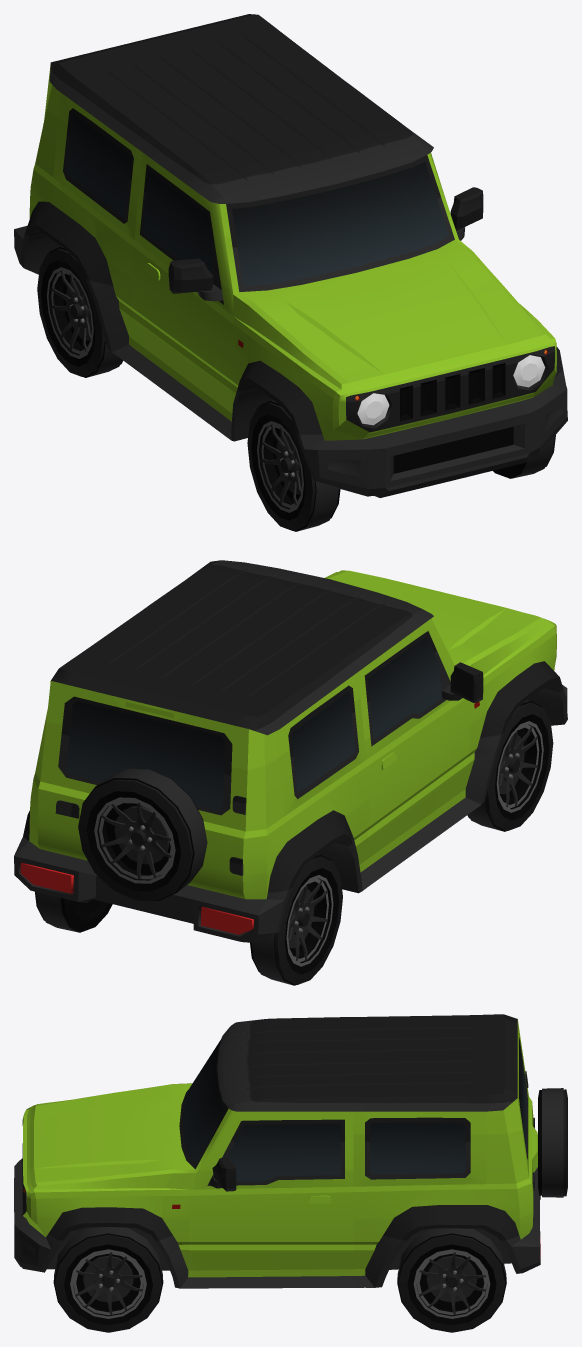
The model's file is Simple_Japanese_Car_V17.fbx.
3 views of the same model, one above another, from view 1: azimuth 30°, elevation 25°; view 2: azimuth 150°, elevation 25°; view 3: azimuth 270°, elevation 25° (orthographic). The views are drawn at different scales.
Visible parts, largest first — view 1: Body.004, FR.004, RR.004, FL.004; view 2: Body.004, RR.004, FR.004, RL.004; view 3: Body.004, FL.004, RL.004.
Boxes of the visible parts, x1,y1,x2,y2 form: Body.004: [14, 14, 567, 497]; FR.004: [247, 400, 340, 531]; RR.004: [37, 246, 123, 377]; FL.004: [493, 435, 555, 478]; Body.004: [14, 560, 567, 943]; RR.004: [250, 854, 342, 985]; FR.004: [467, 700, 553, 831]; RL.004: [35, 891, 112, 932]; Body.004: [14, 1014, 567, 1288]; FL.004: [53, 1227, 163, 1332]; RL.004: [397, 1228, 506, 1332].
Size of the model in its own units: 1.94 by 1.69 by 3.68.
Materials: 2 (2 with a texture image).
